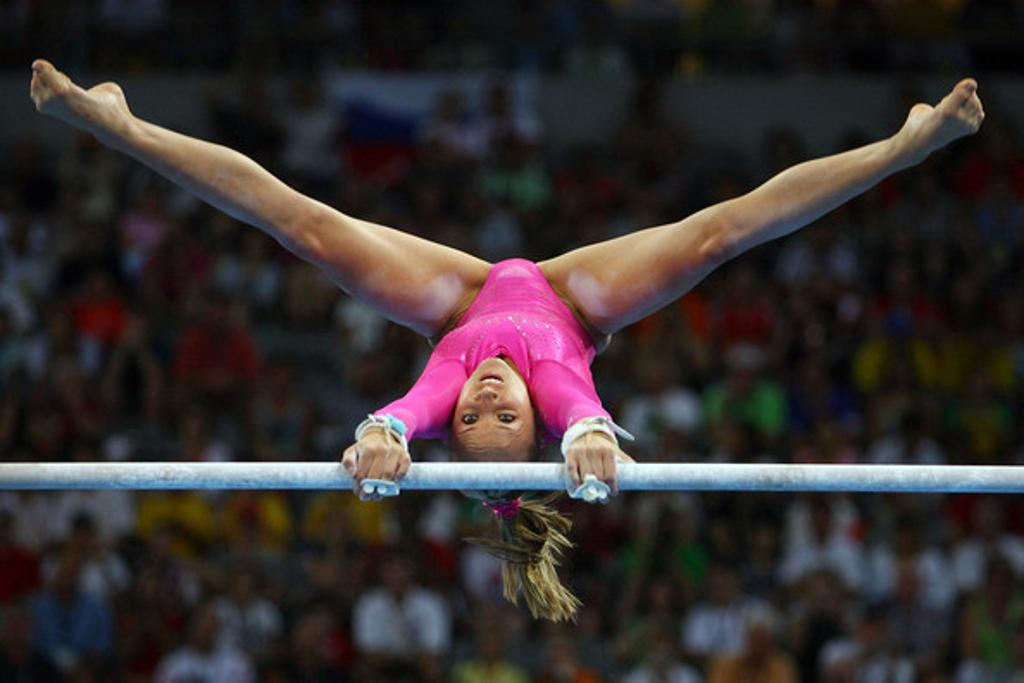face: (457, 357, 529, 465)
